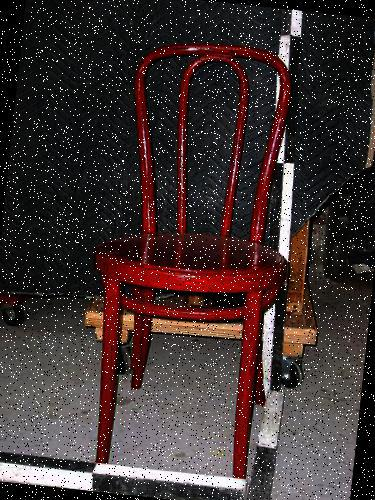Silla: (79, 33, 303, 483)
